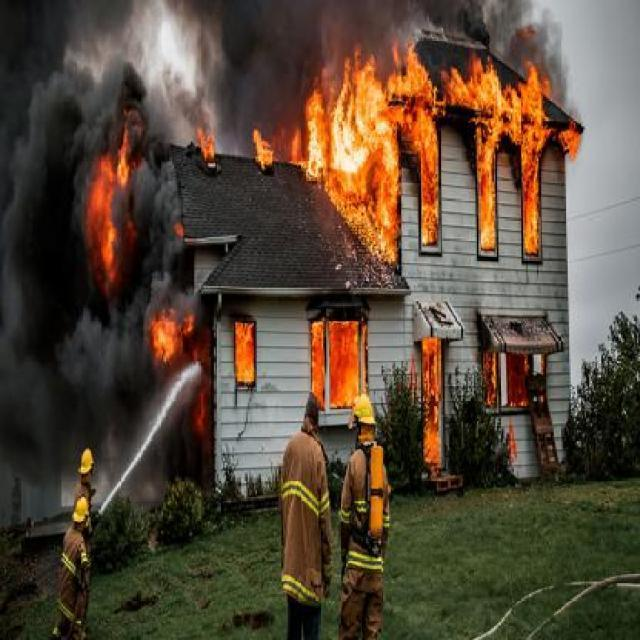Fire: (290, 47, 582, 273), (80, 132, 148, 295), (147, 307, 208, 442), (305, 317, 363, 413), (420, 343, 447, 470), (245, 115, 283, 173), (193, 113, 225, 173), (233, 320, 253, 383)
Smoke: (0, 0, 192, 510), (190, 2, 432, 153), (435, 2, 573, 127)
